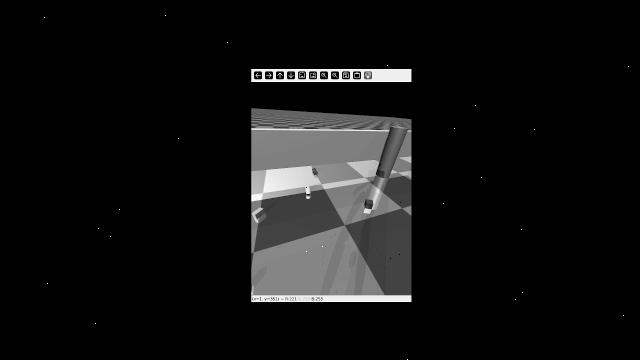cilindro: (370, 120, 412, 180), (302, 184, 316, 196), (310, 165, 320, 176)
cuadrado: (361, 197, 376, 212)
rectangulo: (251, 203, 267, 222)
